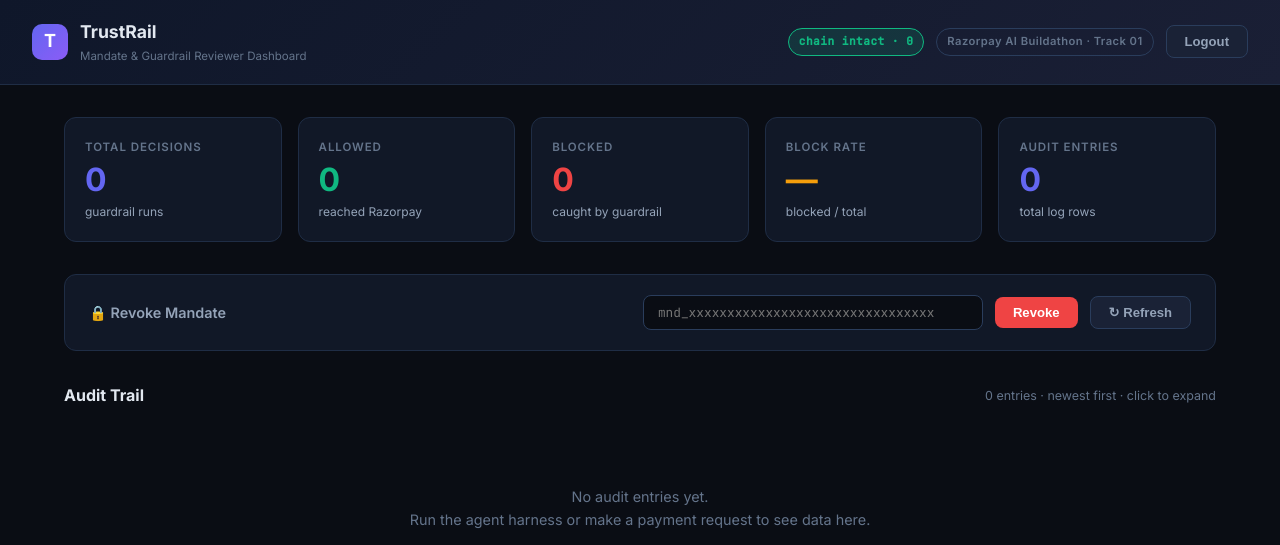
Test: App – revoke mandate › shows an error message when revoke fails (404)
expect the heading "🔒 Revoke Mandate" is shown: met, box [89,301,226,324]
Step 1. Type "mnd_ghost_999" into the field with placeholder "mnd_xxxxxxxxxxxxxxxxxxxxxxxxxxxxxxxx" → (813, 313), box [643,295,983,330]
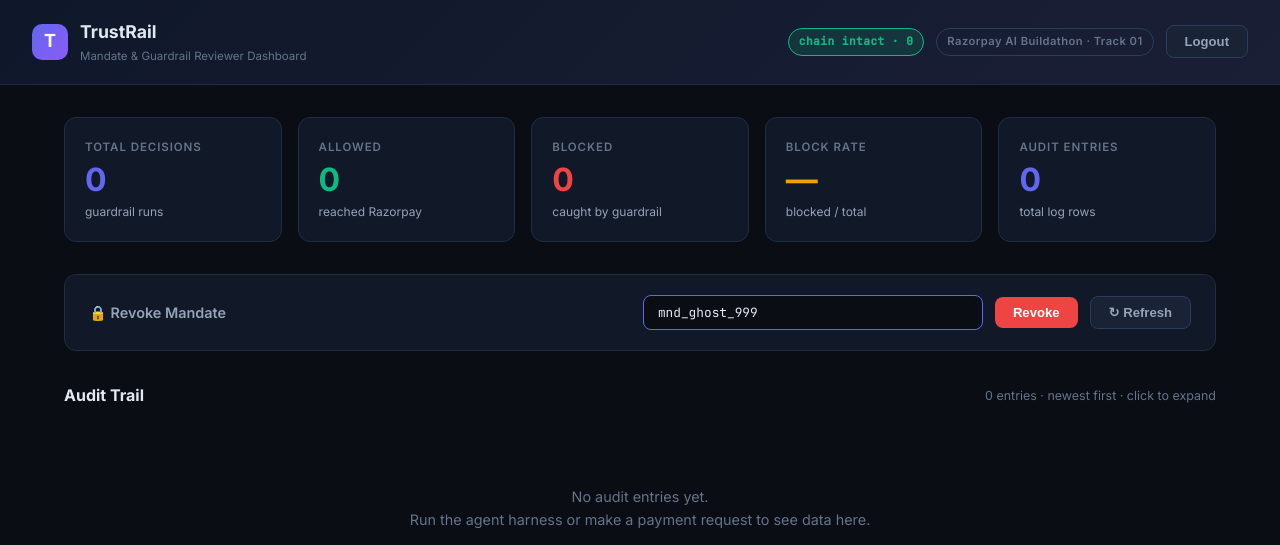
Step 2. Click the button "Revoke" → click(1036, 313), box [995,297,1078,328]
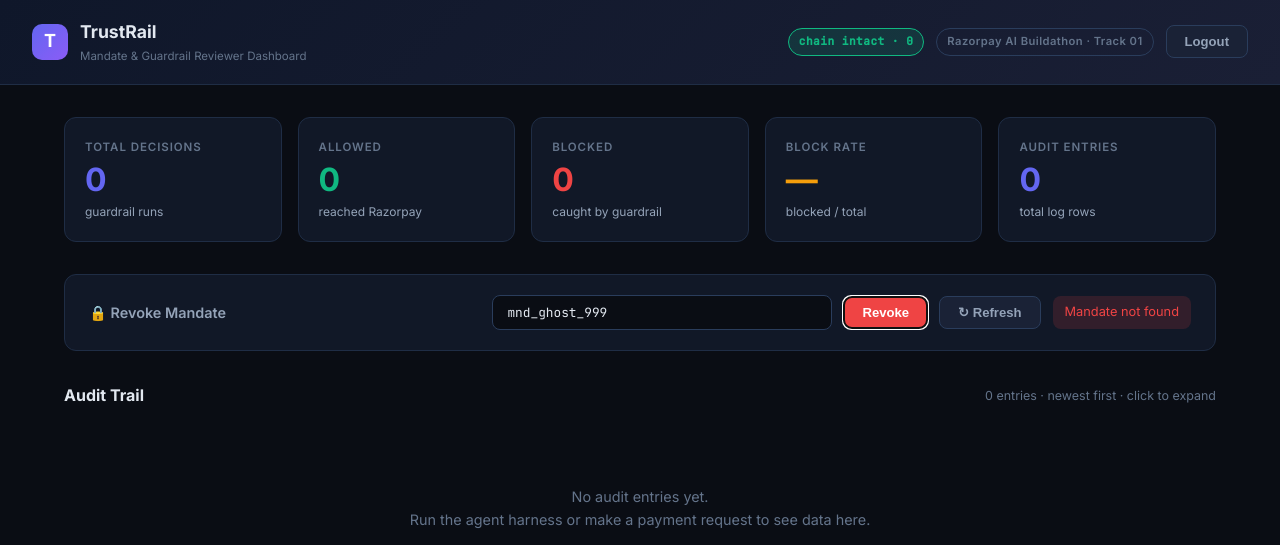
expect the text "Mandate not found" is shown: met, box [1052,296,1191,329]
